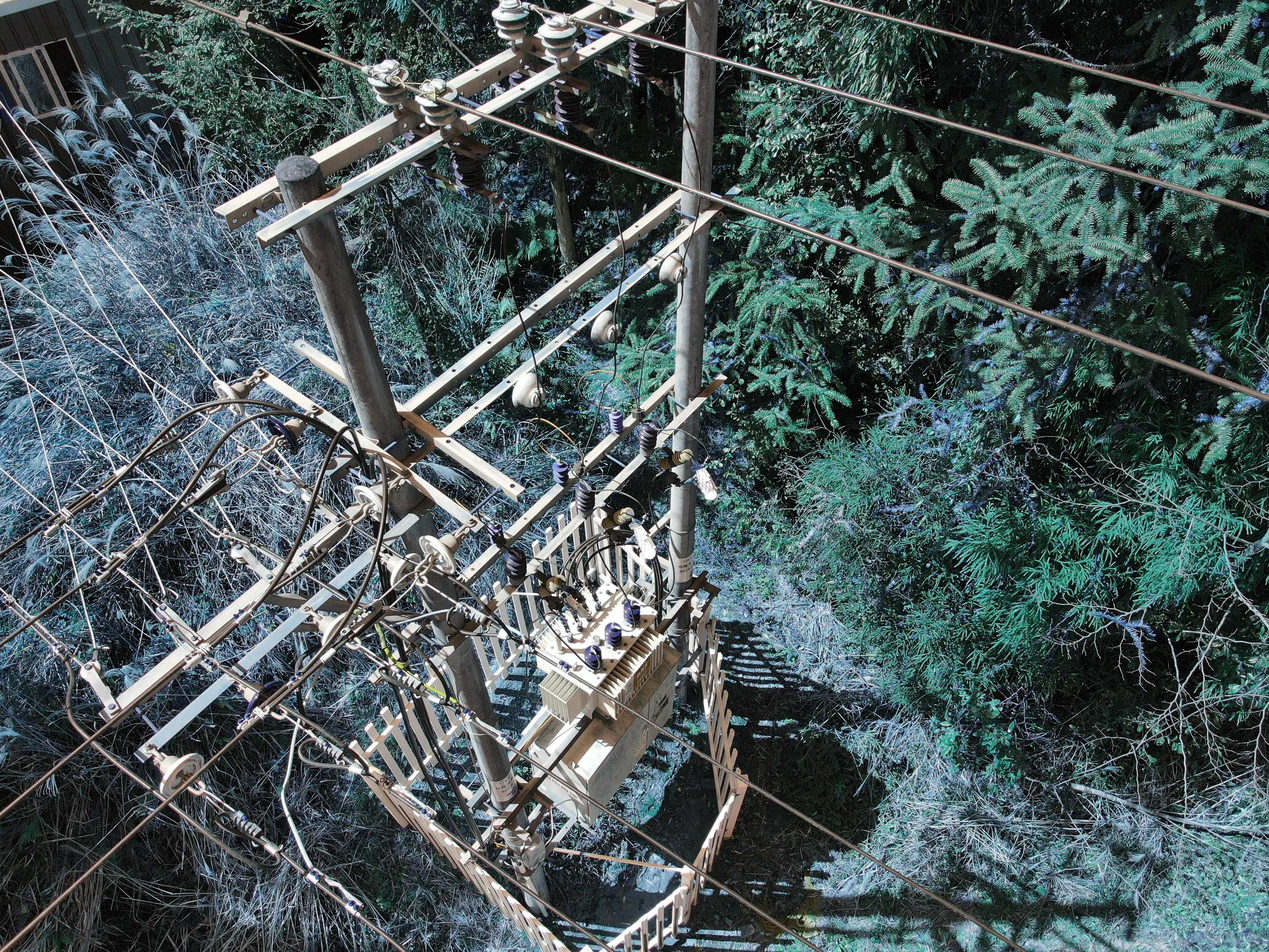severe_soiling_no_discharge_whole: (415, 79, 460, 126), (367, 58, 409, 105), (489, 0, 533, 43), (538, 13, 579, 58), (510, 372, 548, 412), (588, 308, 621, 347), (656, 252, 688, 289), (342, 892, 367, 919), (305, 864, 329, 887), (182, 648, 206, 671), (233, 711, 259, 732), (48, 638, 70, 660), (417, 802, 440, 823), (375, 772, 397, 793), (288, 669, 309, 690), (201, 655, 222, 674), (456, 704, 479, 721), (160, 615, 180, 634), (493, 729, 512, 749), (521, 636, 539, 654), (1, 591, 18, 610), (554, 658, 574, 673), (217, 527, 235, 541), (267, 463, 282, 479), (235, 441, 250, 456), (400, 467, 412, 477), (255, 365, 265, 376), (466, 516, 477, 525), (308, 404, 319, 411), (422, 552, 431, 559)
